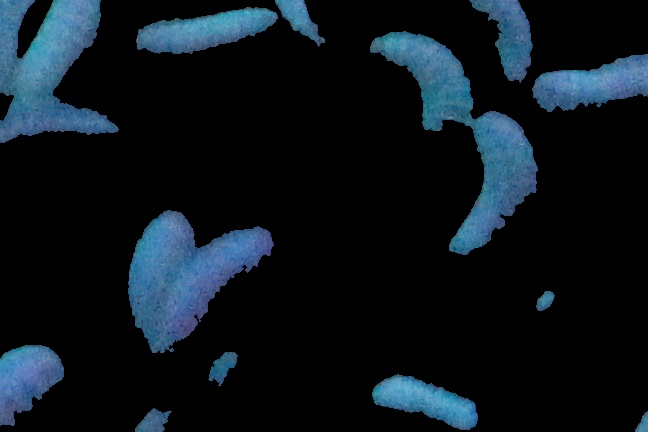larvae: (172, 208, 281, 359), (446, 108, 543, 261), (361, 25, 477, 148), (128, 210, 199, 370), (12, 1, 106, 102), (531, 53, 648, 116), (136, 1, 274, 53), (1, 99, 133, 153), (366, 372, 479, 432), (468, 1, 541, 83)
